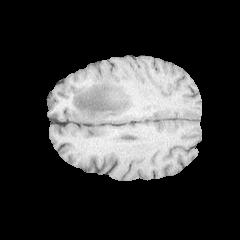glioma: (69, 70, 139, 121)
